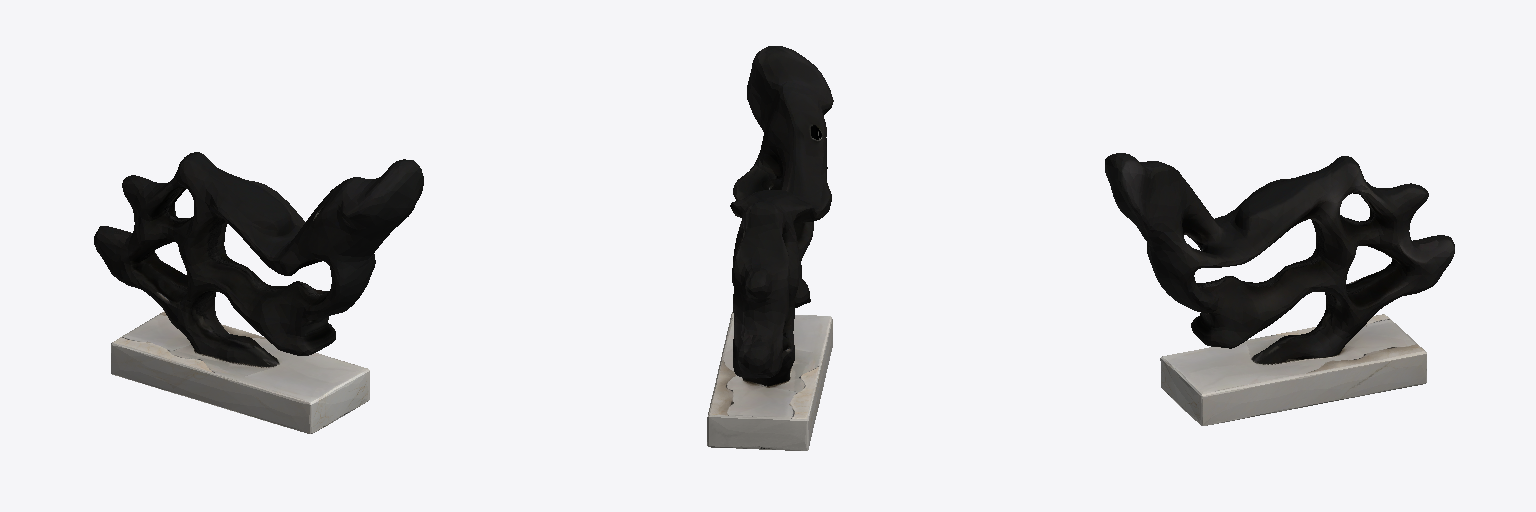
3 renders of one model, left to right at view 1: azimuth 30°, elevation 25°; view 2: azimuth 150°, elevation 25°; view 3: azimuth 270°, elevation 25°, orthographic.
Parts seen in each view (by area): view 1: estatuanueva11; view 2: estatuanueva11; view 3: estatuanueva11.
Boxes of the visible parts, box(x1,y1,x2,y2) form: estatuanueva11: box(94, 152, 423, 433); estatuanueva11: box(707, 46, 833, 450); estatuanueva11: box(1105, 153, 1454, 425).
Bounding box in the file's own units: 5.78 × 8.09 × 9.52.
1 materials, 1 textured.